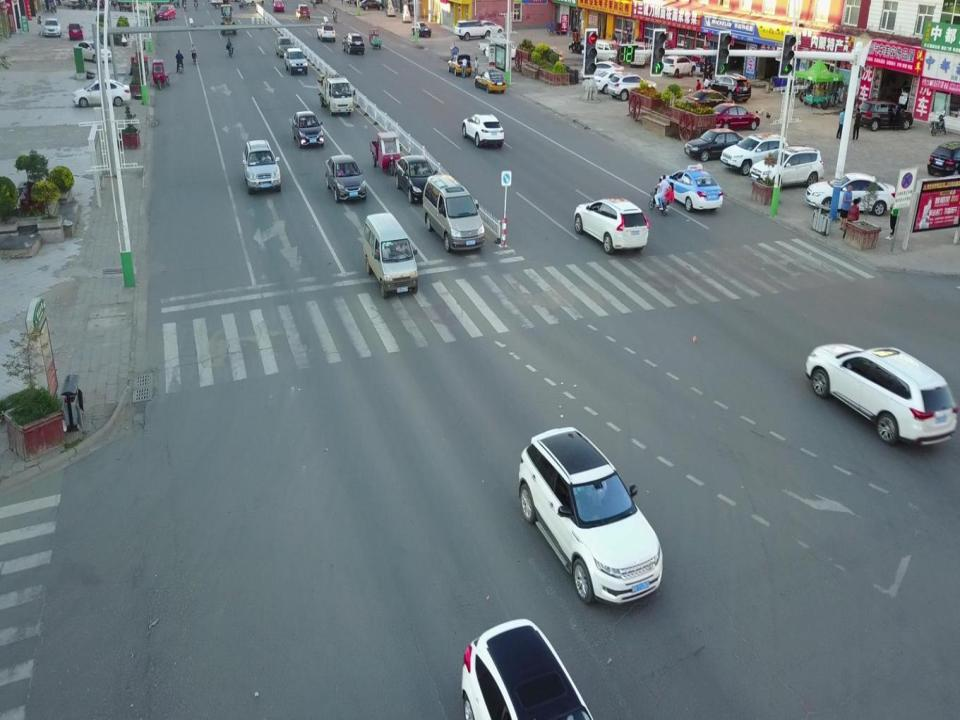car: (518, 426, 664, 606), (806, 340, 957, 447), (460, 615, 596, 720), (574, 196, 650, 254), (804, 172, 896, 216), (748, 144, 824, 189), (720, 132, 791, 176), (660, 164, 724, 212), (684, 127, 752, 162), (242, 138, 282, 196), (394, 154, 438, 204), (858, 95, 914, 132), (325, 156, 367, 202), (72, 78, 132, 106), (704, 101, 761, 130), (704, 72, 751, 103), (462, 114, 504, 148), (686, 88, 736, 116), (608, 72, 657, 100), (927, 140, 960, 178), (292, 110, 324, 148), (580, 60, 624, 83), (594, 70, 634, 94), (73, 40, 112, 64), (474, 67, 506, 93), (660, 55, 697, 75), (485, 42, 522, 62), (454, 20, 491, 40), (448, 52, 472, 78), (568, 36, 596, 56), (342, 32, 365, 55), (275, 36, 295, 59), (476, 20, 504, 36), (42, 18, 62, 38), (317, 22, 336, 43), (412, 21, 432, 38), (66, 22, 84, 40), (156, 4, 176, 20), (296, 4, 310, 20), (273, 0, 285, 12)
truck: (316, 72, 355, 116), (478, 34, 512, 57), (283, 47, 308, 74)
van: (422, 173, 485, 252), (362, 212, 418, 298), (587, 39, 620, 65), (630, 43, 646, 68)
